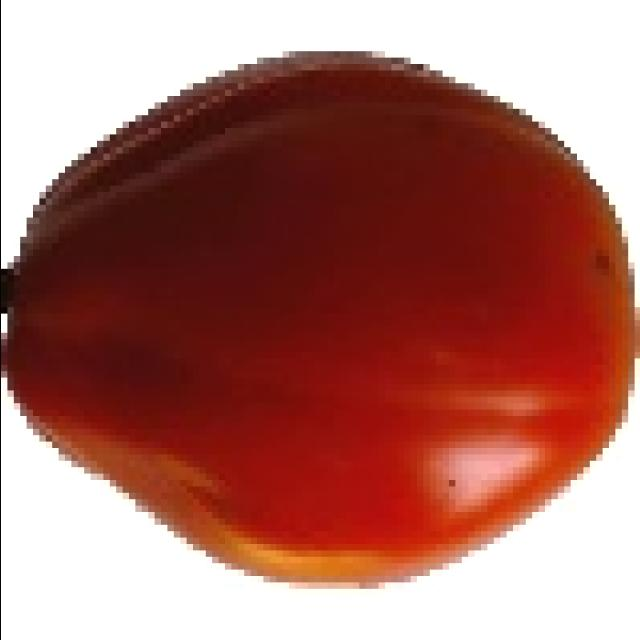tomato: (3, 55, 639, 587)
